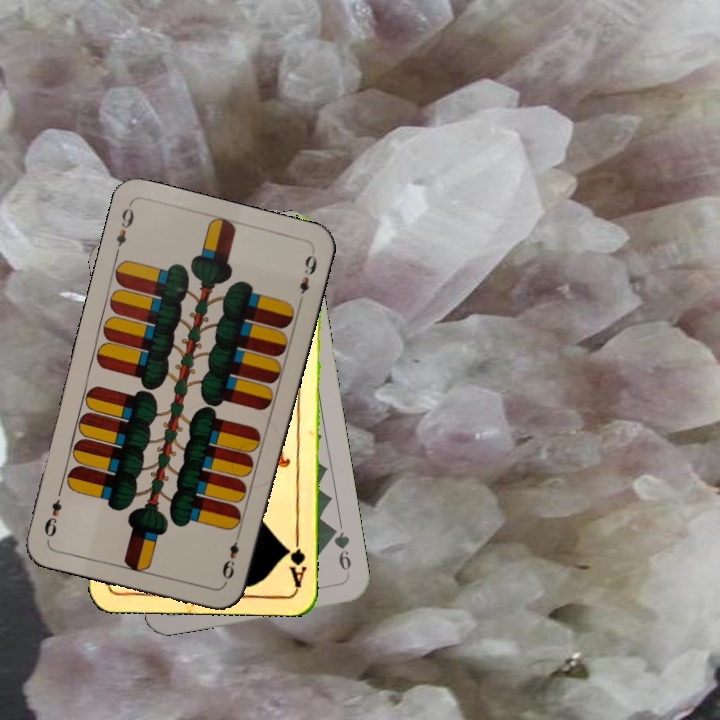E9: (111, 201, 137, 259), (218, 529, 244, 582)
G9: (326, 523, 354, 580)
GA: (282, 530, 309, 589)
